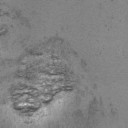iron sheet ash: (10, 36, 80, 118), (0, 23, 8, 36)
